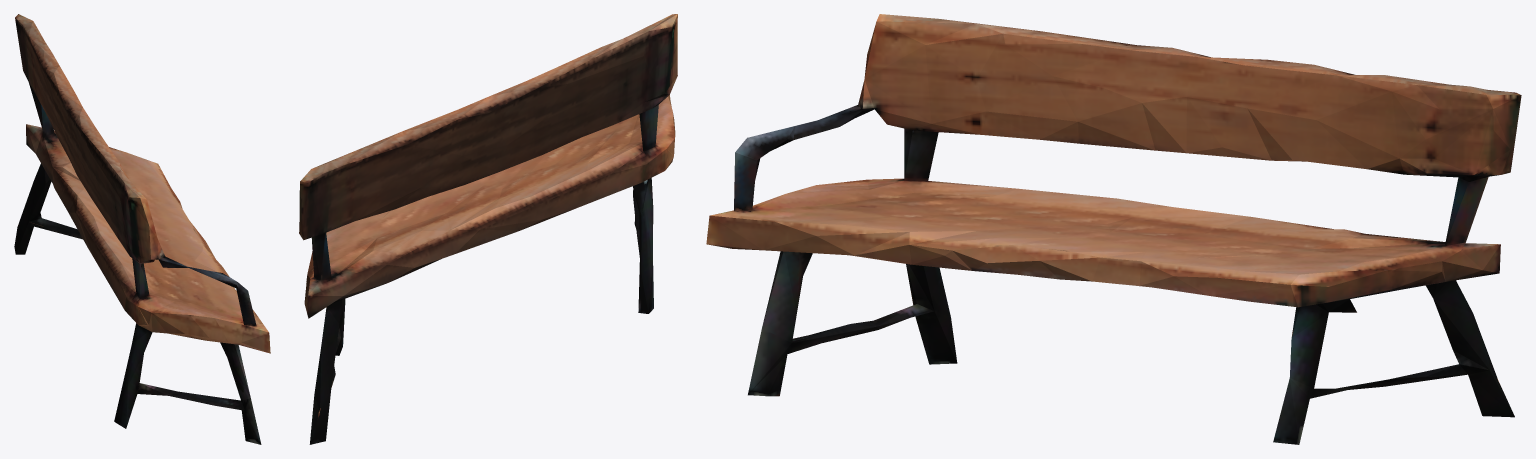
The model's file is bench-lod1.obj.
3 renders of one model, left to right at view 1: azimuth 30°, elevation 25°; view 2: azimuth 150°, elevation 25°; view 3: azimuth 270°, elevation 25°, orthographic. The views are drawn at different scales.
Size of the model in its own units: 0.6016 by 0.8485 by 1.8.
Materials: 1 (1 with a texture image).
